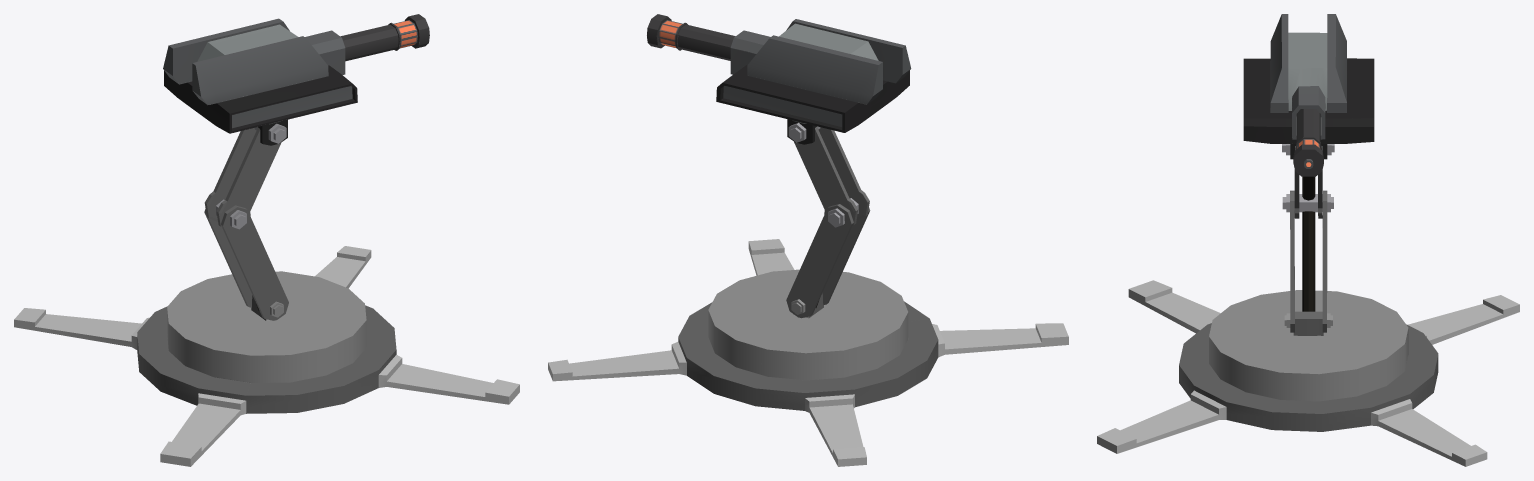
File: laser turret_rig.fbx
3 views of the same model, side by side, from view 1: azimuth 30°, elevation 25°; view 2: azimuth 150°, elevation 25°; view 3: azimuth 270°, elevation 25° (orthographic).
Visible parts, largest first — view 1: base platform, top turret, leg 2, leg1; view 2: base platform, top turret, leg 2, leg1; view 3: base platform, top turret, leg 2, steel cylinder 2, screws, leg1.
Boxes of the visible parts, box(x1,y1,x2,y2) form: base platform: box(14, 246, 519, 466); top turret: box(163, 14, 429, 133); leg 2: box(204, 205, 288, 320); leg1: box(204, 127, 281, 226); base platform: box(548, 239, 1068, 466); top turret: box(647, 14, 911, 132); leg 2: box(786, 204, 870, 318); leg1: box(794, 127, 869, 225); base platform: box(1097, 280, 1519, 466); top turret: box(1243, 14, 1374, 176); leg 2: box(1290, 190, 1327, 332); steel cylinder 2: box(1302, 211, 1315, 311); screws: box(1282, 194, 1333, 212); leg1: box(1294, 146, 1322, 218).
Bounding box in the file's own units: 324 × 273 × 324.
